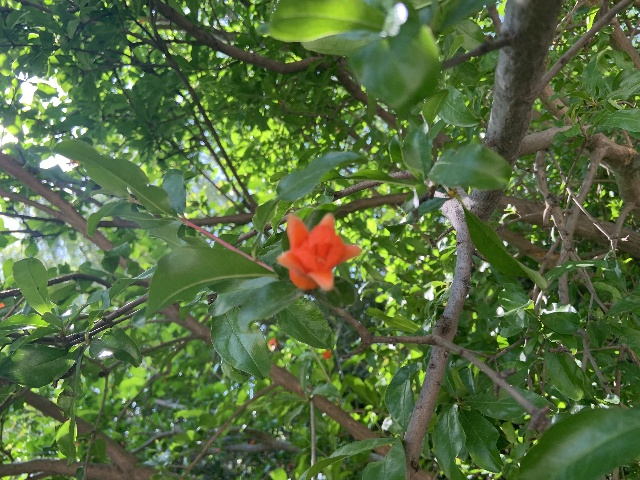flower: (276, 212, 361, 291)
